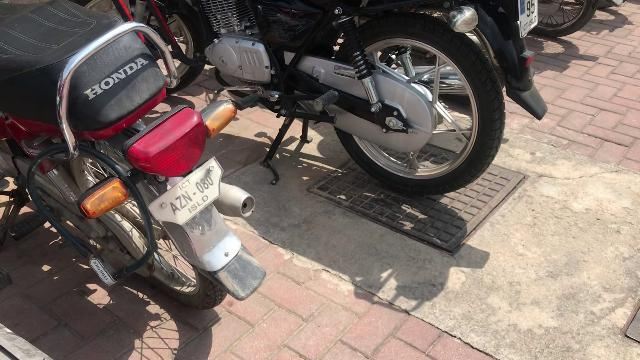plate: (144, 154, 224, 225)
